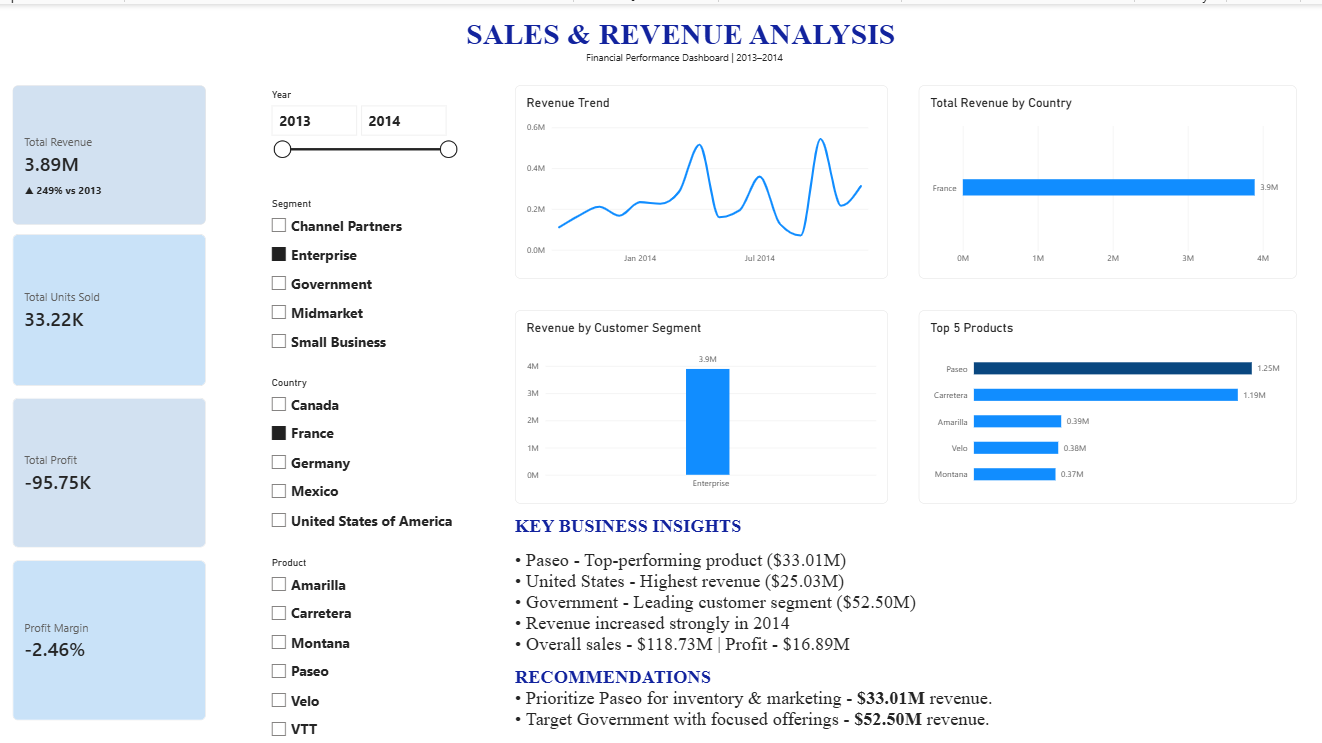

This screenshot's page, from the dashboard's own definition file:
{"tool":"powerbi","page":{"name":"Page 1","canvas":[1920,1080],"ordinal":0},"visuals":[{"type":"cardVisual","fields":{"Data":["Financial_Data.Total Units Sold"]},"box":[17.5,332.5,280,220],"z":0},{"type":"cardVisual","fields":{"Data":["Financial_Data.Total Profit"]},"box":[17.5,570,280,217.5],"z":1000},{"type":"cardVisual","fields":{"Data":["Financial_Data.Profit Margin"]},"box":[17.5,805,280,232.5],"z":2000},{"type":"cardVisual","fields":{"Data":["Financial_Data.Total Revenue"]},"box":[17.5,117.5,280,202.5],"z":3000},{"type":"lineChart","title":"Revenue Trend","fields":{"Category":["Financial_Data.Date.Variation.Date Hierarchy.Year","Financial_Data.Date.Variation.Date Hierarchy.Month"],"Y":["Financial_Data.Total Revenue"]},"box":[745,117.5,540,280],"z":4000},{"type":"clusteredBarChart","title":"Top 5 Products","fields":{"Category":["Financial_Data.Product"],"Y":["Financial_Data.Total Revenue"]},"box":[1330,442.5,547.5,280],"z":5000},{"type":"clusteredBarChart","fields":{"Category":["Financial_Data.Country"],"Y":["Financial_Data.Total Revenue"]},"box":[1330,117.5,547.5,280],"z":6000},{"type":"clusteredColumnChart","title":"Revenue by Customer Segment","fields":{"Category":["Financial_Data.Segment"],"Y":["Financial_Data.Total Revenue"]},"box":[745,442.5,540,280],"z":7000},{"type":"textbox","box":[1750,0,170,280],"z":8000},{"type":"textbox","box":[410,18,1160,76],"z":9000},{"type":"slicer","fields":{"Values":["Financial_Data.Year"]},"box":[385,122.5,280,157.5],"z":10000},{"type":"slicer","fields":{"Values":["Financial_Data.Country"]},"box":[385,540,280,280],"z":11000},{"type":"slicer","fields":{"Values":["Financial_Data.Segment"]},"box":[385,280,280,280],"z":12000},{"type":"slicer","fields":{"Values":["Financial_Data.Product"]},"box":[385,800,280,280],"z":13000},{"type":"textbox","box":[746,740,1132,340],"z":14000},{"type":"textbox","box":[36,258,162,62],"z":15000}]}

Visuals, with their boxes in screenshot pixels (x1, y1, x2, y2), scaled from the page's 1920x1080 canvas onto the 1322x743 screenshot:
cardVisual - Financial_Data.Total Units Sold: {"left": 12, "top": 229, "right": 205, "bottom": 380}
cardVisual - Financial_Data.Total Profit: {"left": 12, "top": 392, "right": 205, "bottom": 542}
cardVisual - Financial_Data.Profit Margin: {"left": 12, "top": 554, "right": 205, "bottom": 714}
cardVisual - Financial_Data.Total Revenue: {"left": 12, "top": 81, "right": 205, "bottom": 220}
"Revenue Trend" lineChart: {"left": 513, "top": 81, "right": 885, "bottom": 273}
"Top 5 Products" clusteredBarChart: {"left": 916, "top": 304, "right": 1293, "bottom": 497}
clusteredBarChart - Financial_Data.Country x Financial_Data.Total Revenue: {"left": 916, "top": 81, "right": 1293, "bottom": 273}
"Revenue by Customer Segment" clusteredColumnChart: {"left": 513, "top": 304, "right": 885, "bottom": 497}
textbox: {"left": 1205, "top": 0, "right": 1321, "bottom": 193}
textbox: {"left": 282, "top": 12, "right": 1081, "bottom": 65}
slicer - Financial_Data.Year: {"left": 265, "top": 84, "right": 458, "bottom": 193}
slicer - Financial_Data.Country: {"left": 265, "top": 372, "right": 458, "bottom": 564}
slicer - Financial_Data.Segment: {"left": 265, "top": 193, "right": 458, "bottom": 385}
slicer - Financial_Data.Product: {"left": 265, "top": 550, "right": 458, "bottom": 742}
textbox: {"left": 514, "top": 509, "right": 1293, "bottom": 742}
textbox: {"left": 25, "top": 177, "right": 136, "bottom": 220}
